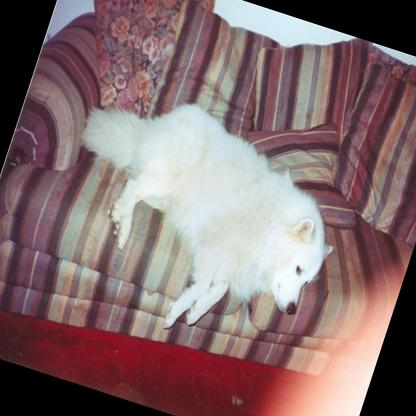Samoyed: (30, 70, 364, 370)
